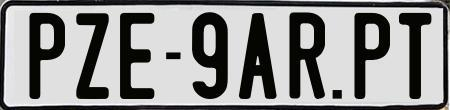9: (191, 12, 227, 104)
A: (237, 13, 281, 104)
E: (118, 13, 156, 100)
P: (352, 10, 394, 96), (29, 10, 68, 101)
R: (288, 9, 324, 96)
T: (396, 13, 434, 103)
Z: (75, 11, 114, 98)
